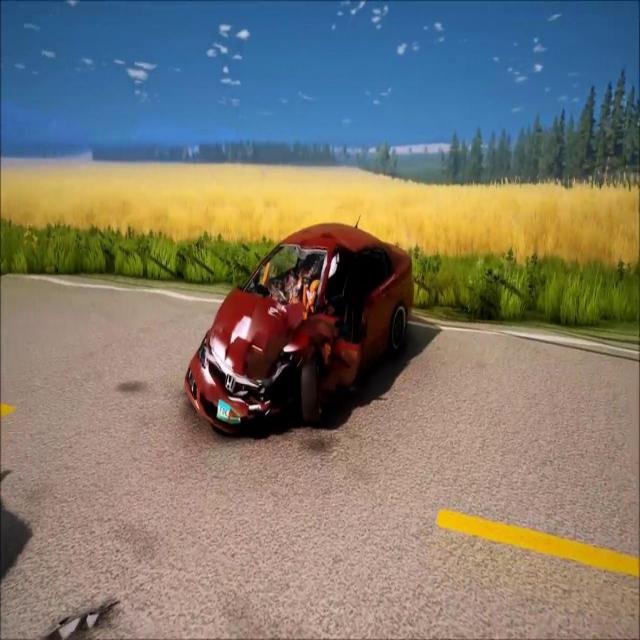accident: (180, 212, 418, 446)
